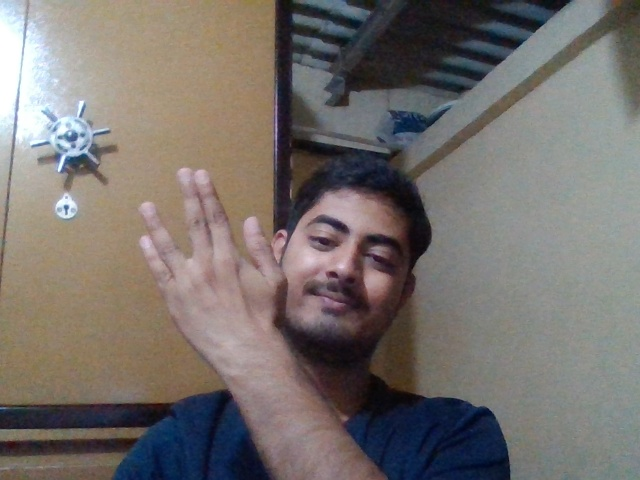LiveLong: (139, 166, 287, 343)
